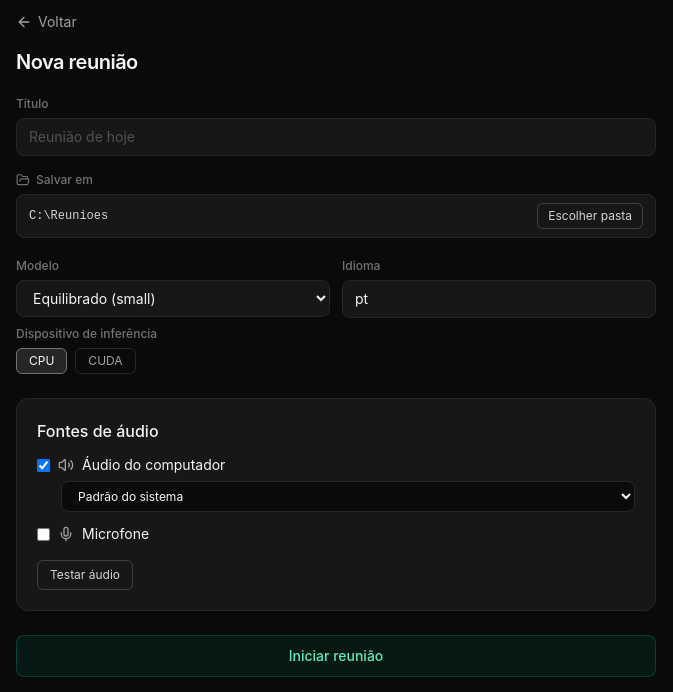
NewMeeting › desabilita o botao de iniciar quando nenhuma fonte de audio esta selecionada
The width and height of the screenshot is (673, 692).
Step 1. Click the checkbox labelled "Áudio do computador" → (44, 465), box [37,458,50,472]
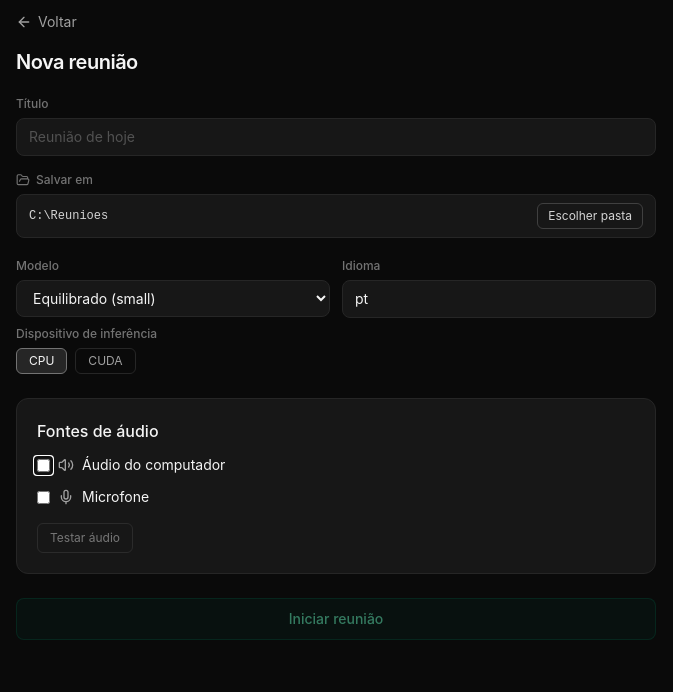
Result: the button "Iniciar reunião" is disabled at [16,598,656,640]
